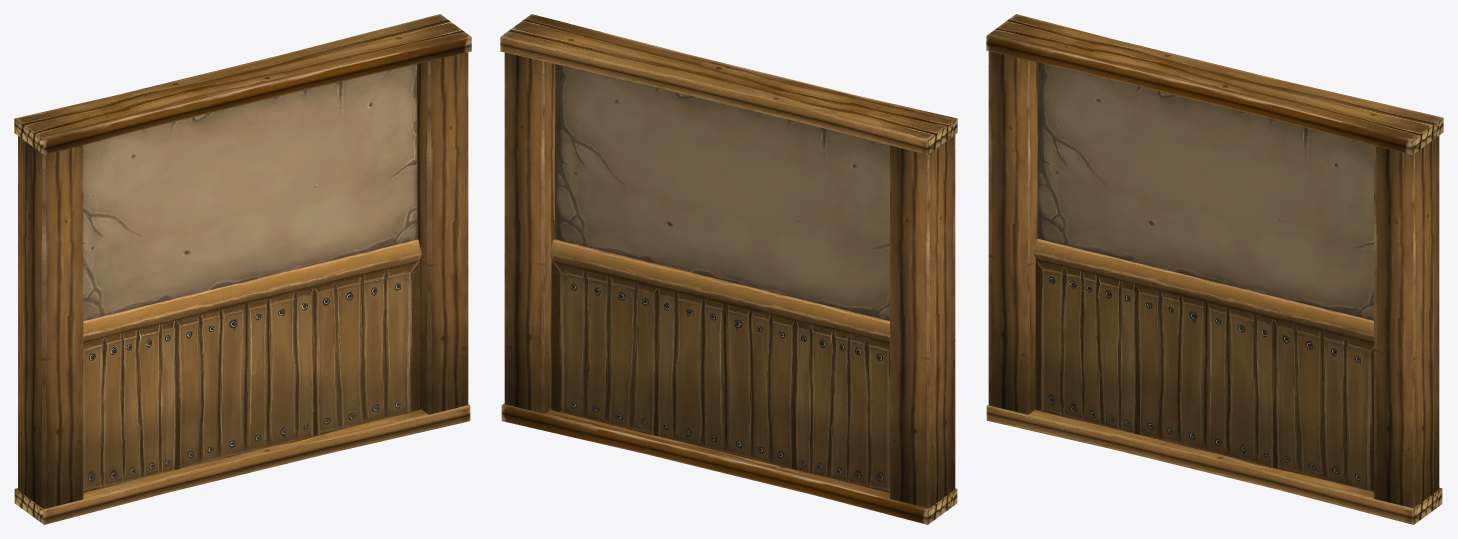
The model's file is SM_wall_01.gltf.
3 renders of one model, left to right at view 1: azimuth 30°, elevation 25°; view 2: azimuth 150°, elevation 25°; view 3: azimuth 330°, elevation 25°, orthographic.
Parts seen in each view (by area): view 1: SM_wall_01; view 2: SM_wall_01; view 3: SM_wall_01.
Boxes of the visible parts, <box> form: SM_wall_01: <box>14,14,471,524</box>; SM_wall_01: <box>500,14,957,524</box>; SM_wall_01: <box>986,14,1443,524</box>.
Bounding box in the file's own units: 2.26 × 1.95 × 0.287.
Materials: 1 (1 with a texture image).
